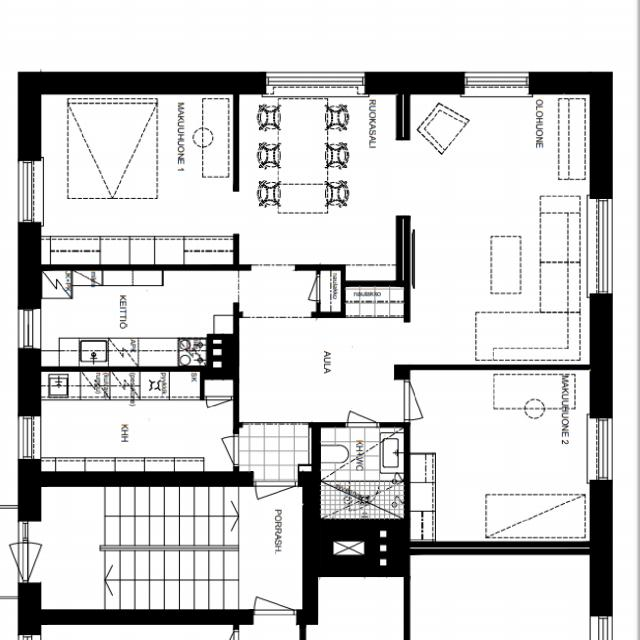door: (404, 382, 450, 420), (256, 480, 295, 524), (202, 436, 239, 466), (348, 394, 377, 428), (292, 277, 321, 300), (207, 397, 230, 422)
